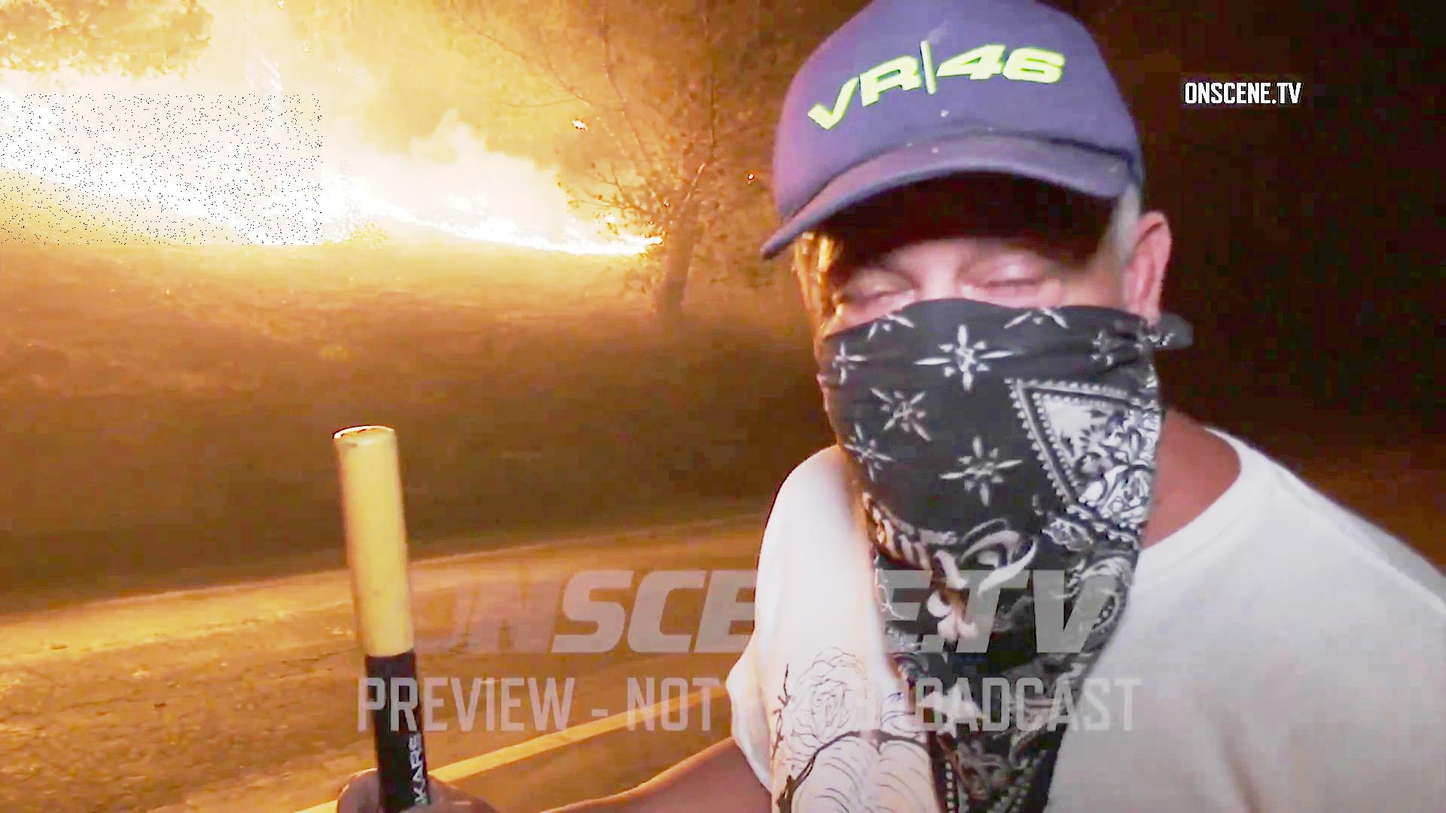fire: (0, 94, 322, 245)
